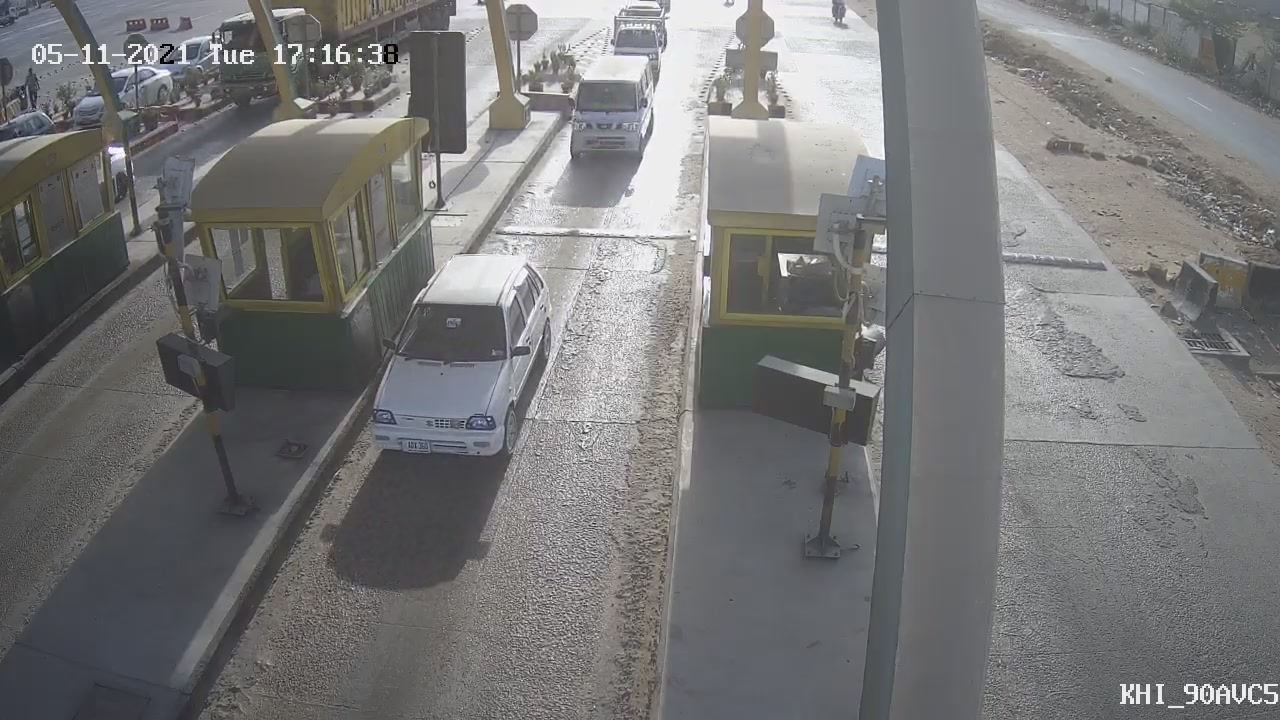F1: (329, 234, 564, 487), (552, 44, 672, 185)
